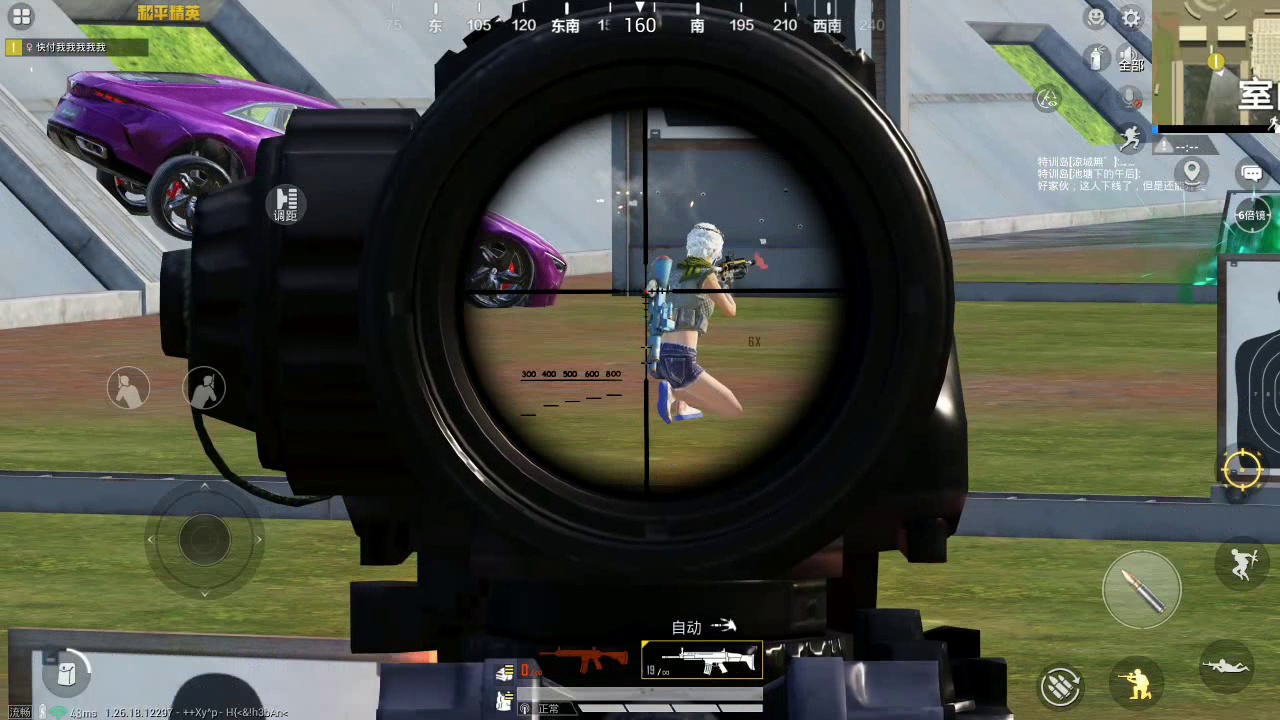enemy: (649, 223, 749, 423)
